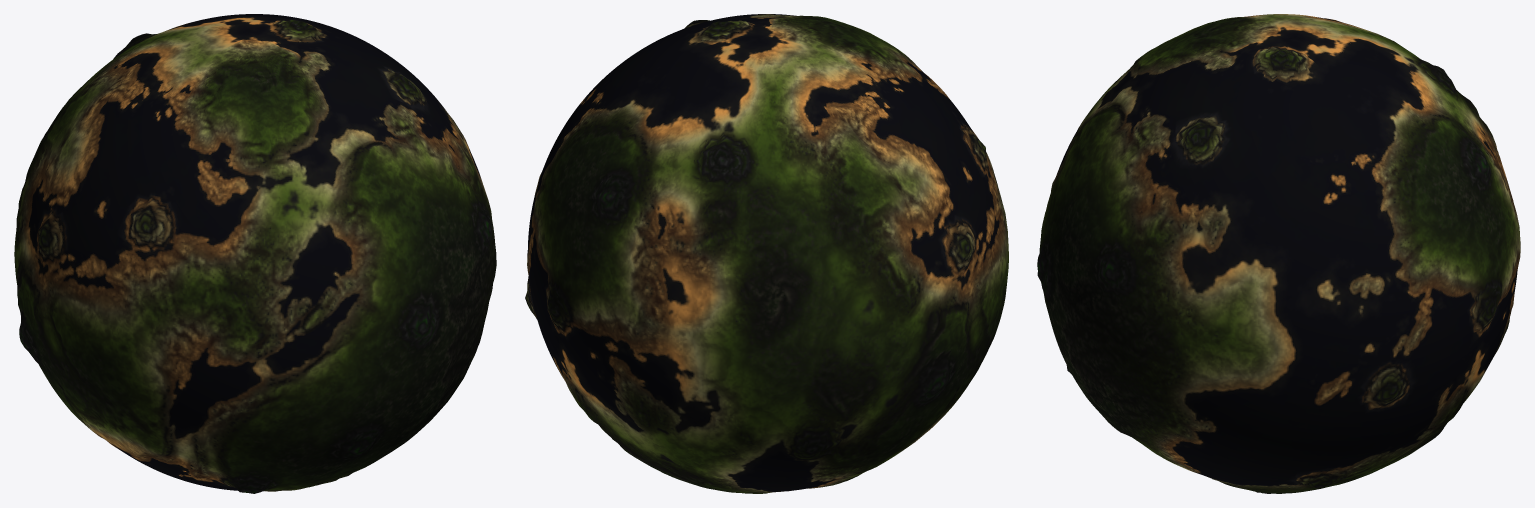
File: planet_on_the_move.glb
The picture shows the model from 3 angles, left to right: view 1: azimuth 30°, elevation 25°; view 2: azimuth 150°, elevation 25°; view 3: azimuth 270°, elevation 25°; orthographic projection.
Parts seen in each view (by area): view 1: Object_2; view 2: Object_2; view 3: Object_2.
Part boxes in pixels (left/top/right/bottom): Object_2: left=14, top=14, right=496, bottom=493; Object_2: left=525, top=14, right=1008, bottom=493; Object_2: left=1037, top=14, right=1520, bottom=493.
Size of the model in its own units: 19.48 by 19.78 by 19.69.
1 material, 1 textured.
